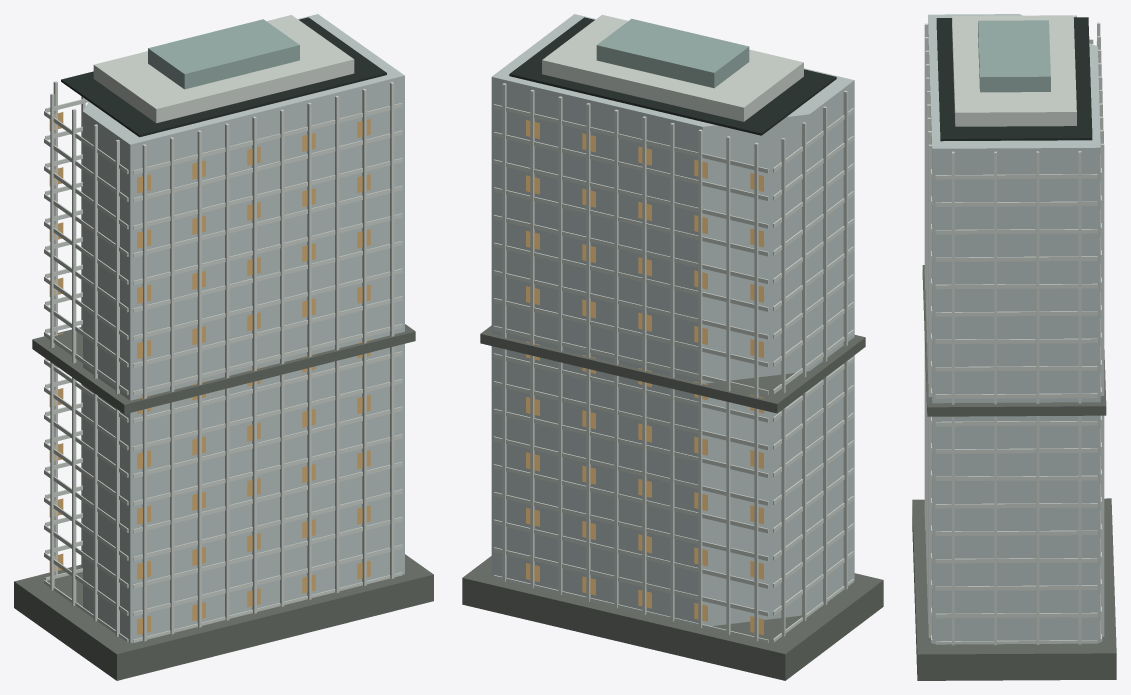
The model's file is xunlei-tower.glb.
3 views of the same model, side by side, from view 1: azimuth 30°, elevation 25°; view 2: azimuth 150°, elevation 25°; view 3: azimuth 270°, elevation 25° (orthographic).
Visible parts, largest first — view 1: envelope, fins, floor_bands, podium, crown_step, night_windows, crown_screen, refuge_belt, roof_deck; view 2: envelope, fins, floor_bands, podium, crown_step, night_windows, crown_screen, refuge_belt, roof_deck; view 3: envelope, floor_bands, fins, podium, crown_step, roof_deck, crown_screen, refuge_belt.
Boxes of the visible parts, box(x1,y1,x2,y2) form: envelope: box(83, 14, 404, 643); fins: box(50, 81, 394, 641); floor_bands: box(44, 99, 402, 642); podium: box(14, 554, 433, 680); crown_step: box(93, 15, 354, 123); night_windows: box(49, 112, 370, 634); crown_screen: box(148, 19, 299, 89); refuge_belt: box(32, 324, 415, 414); roof_deck: box(61, 17, 386, 137); envelope: box(491, 14, 854, 626); fins: box(502, 83, 847, 641); floor_bands: box(493, 104, 853, 642); podium: box(462, 556, 883, 680); crown_step: box(542, 14, 803, 121); night_windows: box(526, 120, 763, 634); crown_screen: box(596, 18, 749, 88); refuge_belt: box(480, 325, 865, 413); roof_deck: box(509, 17, 836, 135); envelope: box(928, 14, 1100, 643); floor_bands: box(931, 39, 1102, 644); fins: box(924, 15, 1104, 645); podium: box(912, 498, 1116, 680); crown_step: box(952, 15, 1076, 126); roof_deck: box(936, 17, 1092, 141); crown_screen: box(978, 20, 1050, 92); refuge_belt: box(922, 265, 1106, 416).
Size of the model in its own units: 75.8 by 126 by 41.96.
